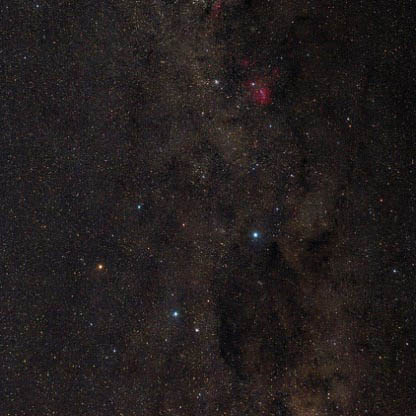Southern Cross: (86, 252, 114, 280), (164, 300, 186, 326), (244, 226, 265, 249), (128, 198, 144, 216)
